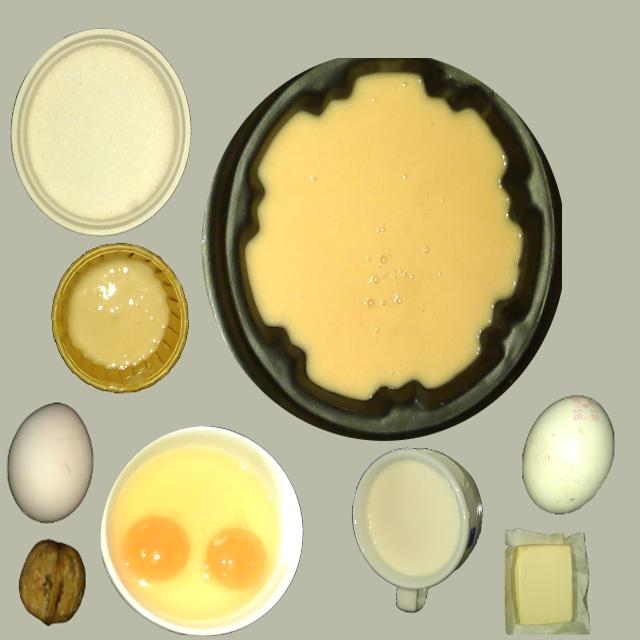Egg: (123, 516, 190, 582), (204, 529, 264, 589)
Milk: (366, 462, 458, 577)
Sugar: (12, 29, 190, 235)
Walnut: (18, 541, 87, 625)
